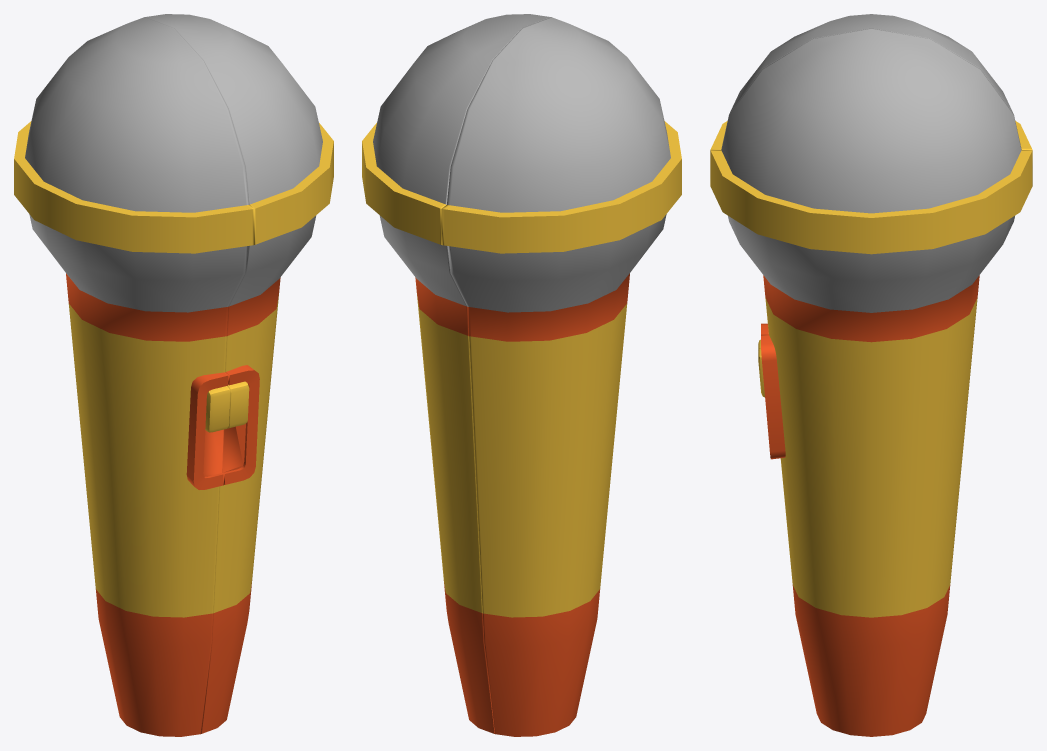
The model's file is SM_Mike_01a.fbx.
3 renders of one model, left to right at view 1: azimuth 30°, elevation 25°; view 2: azimuth 150°, elevation 25°; view 3: azimuth 270°, elevation 25°, orthographic.
Visible parts, largest first — view 1: Mike_02, Mike_01; view 2: Mike_02, Mike_01; view 3: Mike_01, Mike_02.
Part boxes in pixels (x1,y1,x2,y2): Mike_02: [14, 17, 254, 736]; Mike_01: [145, 14, 333, 733]; Mike_02: [441, 17, 681, 736]; Mike_01: [362, 14, 550, 733]; Mike_01: [710, 28, 1032, 736]; Mike_02: [710, 14, 1032, 350].
Bounding box in the file's own units: 10.53 × 24.71 × 10.53.
